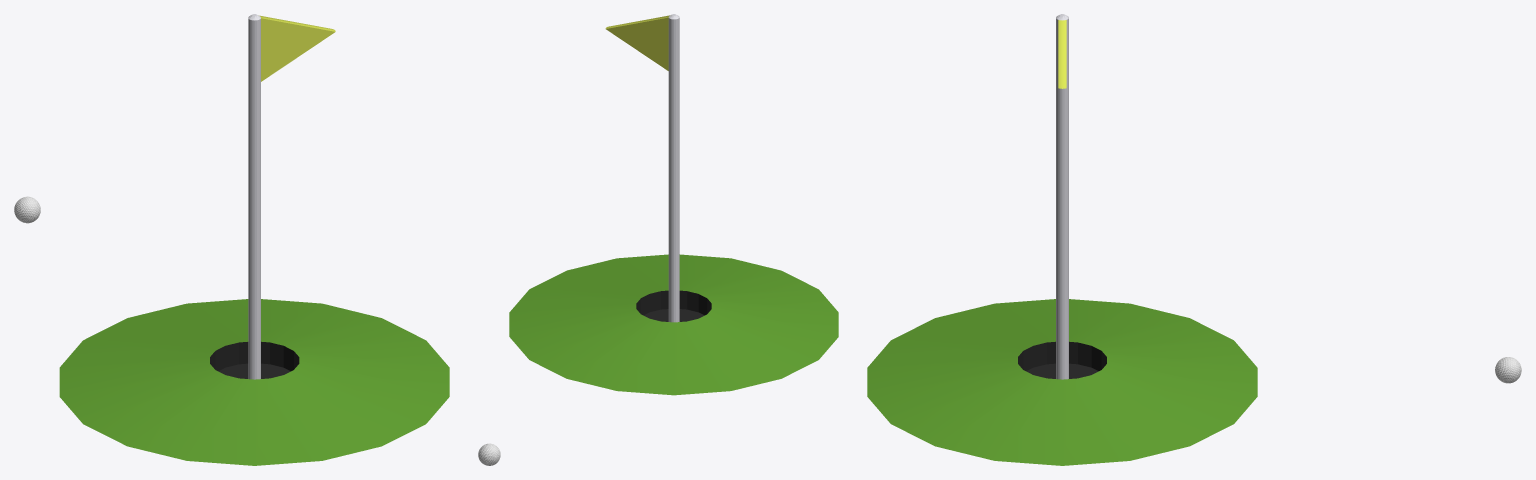
File: Golf Anim.fbx
The picture shows the model from 3 angles, left to right: view 1: azimuth 30°, elevation 25°; view 2: azimuth 150°, elevation 25°; view 3: azimuth 270°, elevation 25°; orthographic projection. The views are drawn at different scales.
Parts seen in each view (by area): view 1: Cylinder001, Cylinder002, Icosphere; view 2: Cylinder001, Cylinder002, Icosphere; view 3: Cylinder001, Cylinder002.
Boxes of the visible parts, x1=… form: Cylinder001: x1=59, y1=299, x2=449, y2=465; Cylinder002: x1=248, y1=14, x2=335, y2=379; Icosphere: x1=14, y1=196, x2=40, y2=223; Cylinder001: x1=509, y1=254, x2=838, y2=395; Cylinder002: x1=605, y1=14, x2=679, y2=322; Icosphere: x1=478, y1=443, x2=500, y2=465; Cylinder001: x1=867, y1=299, x2=1257, y2=465; Cylinder002: x1=1056, y1=14, x2=1068, y2=379.
Bounding box in the file's own units: 801 × 824 × 1323.
